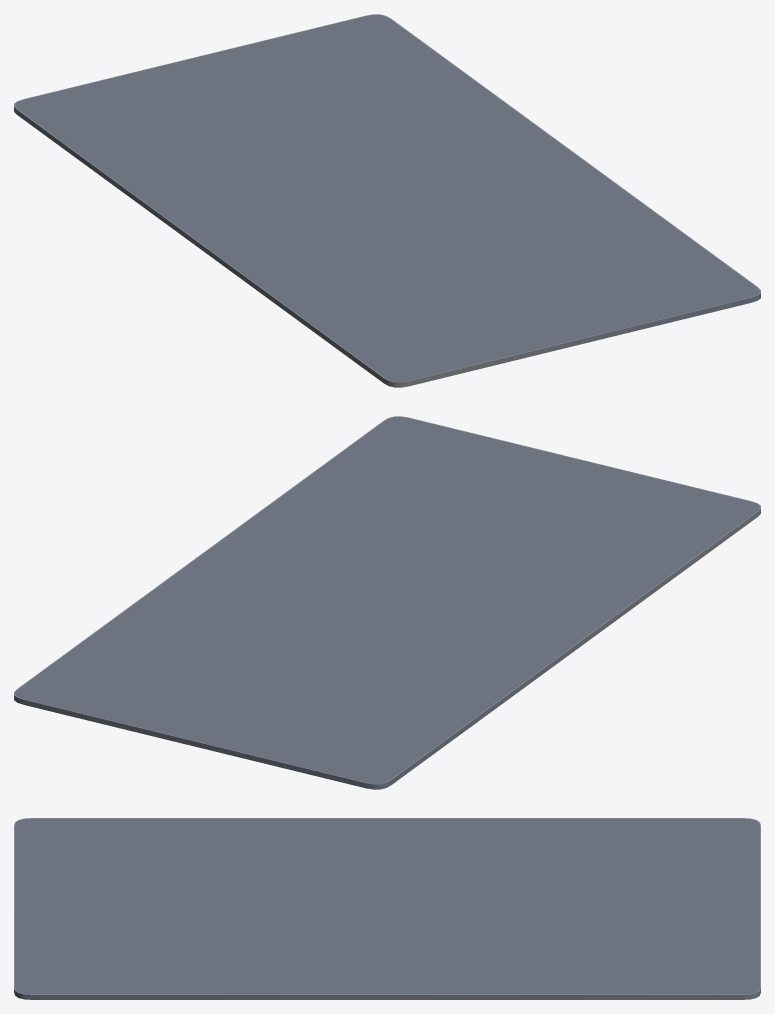
Rendered from Anden_3.FBX.
3 renders of one model, top to bottom at view 1: azimuth 30°, elevation 25°; view 2: azimuth 150°, elevation 25°; view 3: azimuth 270°, elevation 25°, orthographic. The views are drawn at different scales.
Visible parts, largest first — view 1: Anden; view 2: Anden; view 3: Anden.
Boxes of the visible parts, bbox=[...] form: Anden: bbox=[14, 14, 760, 387]; Anden: bbox=[14, 416, 760, 789]; Anden: bbox=[14, 818, 760, 999].
Bounding box in the file's own units: 1518 × 2709 × 20.
